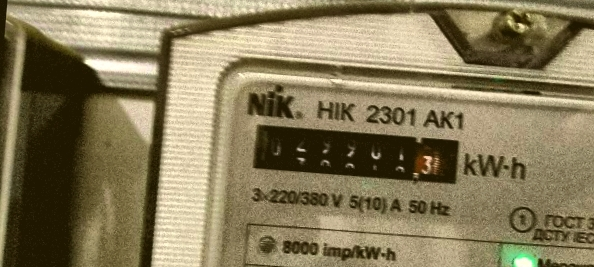0: (368, 135, 384, 161), (267, 134, 284, 156)
1: (393, 138, 407, 162)
2: (292, 133, 309, 153)
3: (419, 151, 433, 174)
9: (343, 135, 358, 158), (318, 133, 332, 156)
screen: (239, 112, 470, 194)
